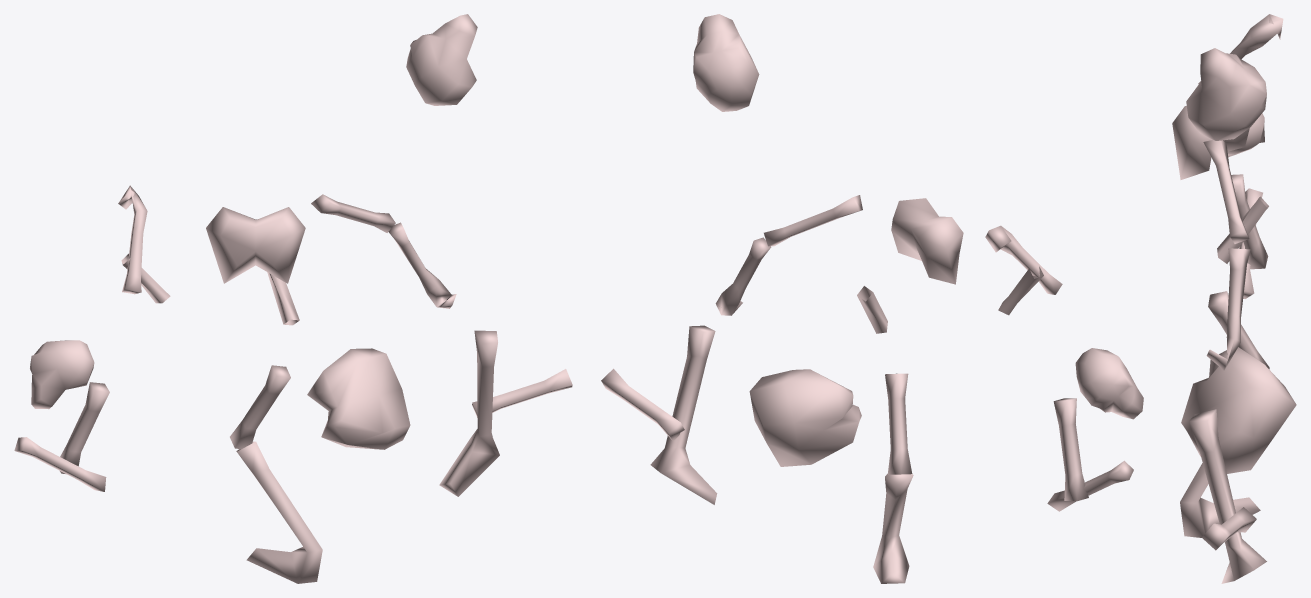
3 views of the same model, side by side, from view 1: azimuth 30°, elevation 25°; view 2: azimuth 150°, elevation 25°; view 3: azimuth 270°, elevation 25° (orthographic). The views are drawn at different scales.
Parts seen in each view (by area): view 1: Object44; view 2: Object44; view 3: Object44.
Boxes of the visible parts, box(x1,y1,x2,y2) form: Object44: box(14, 14, 572, 583); Object44: box(601, 14, 1143, 583); Object44: box(1172, 14, 1296, 583).
Bounding box in the file's own units: 22730 × 20856 × 4108.
